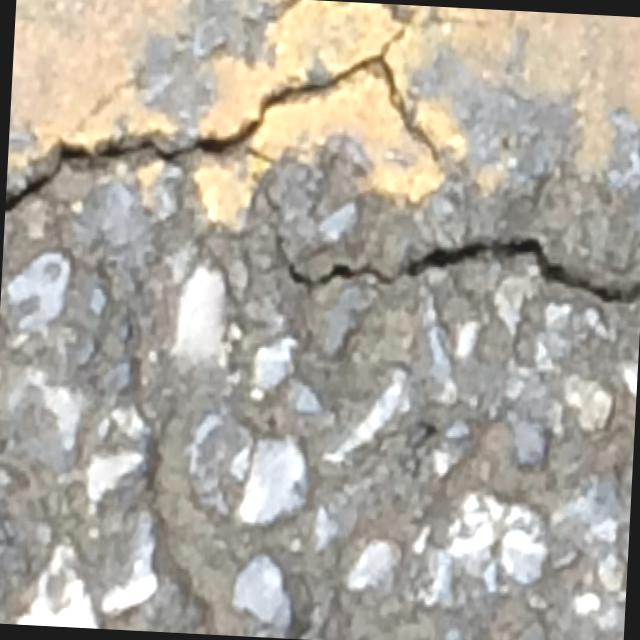crack: (2, 0, 640, 326)
